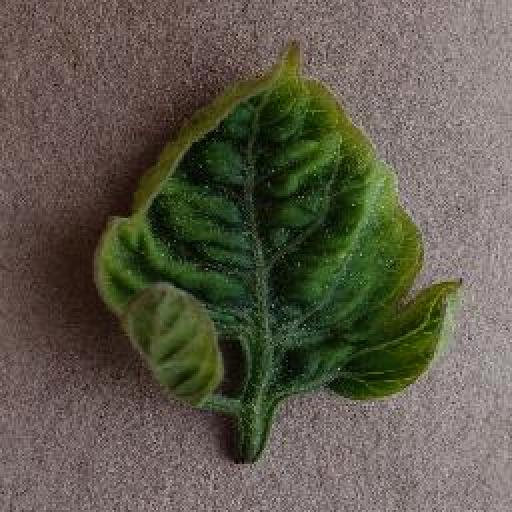disease_tomato: (88, 35, 466, 417)
